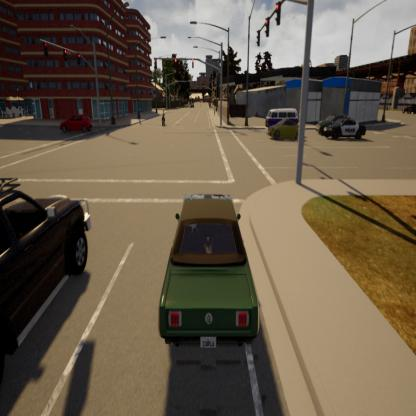Cars: (0, 131, 105, 379), (148, 174, 268, 370), (263, 115, 305, 145), (312, 104, 348, 137), (325, 118, 368, 144), (262, 102, 300, 127), (188, 102, 198, 111)
